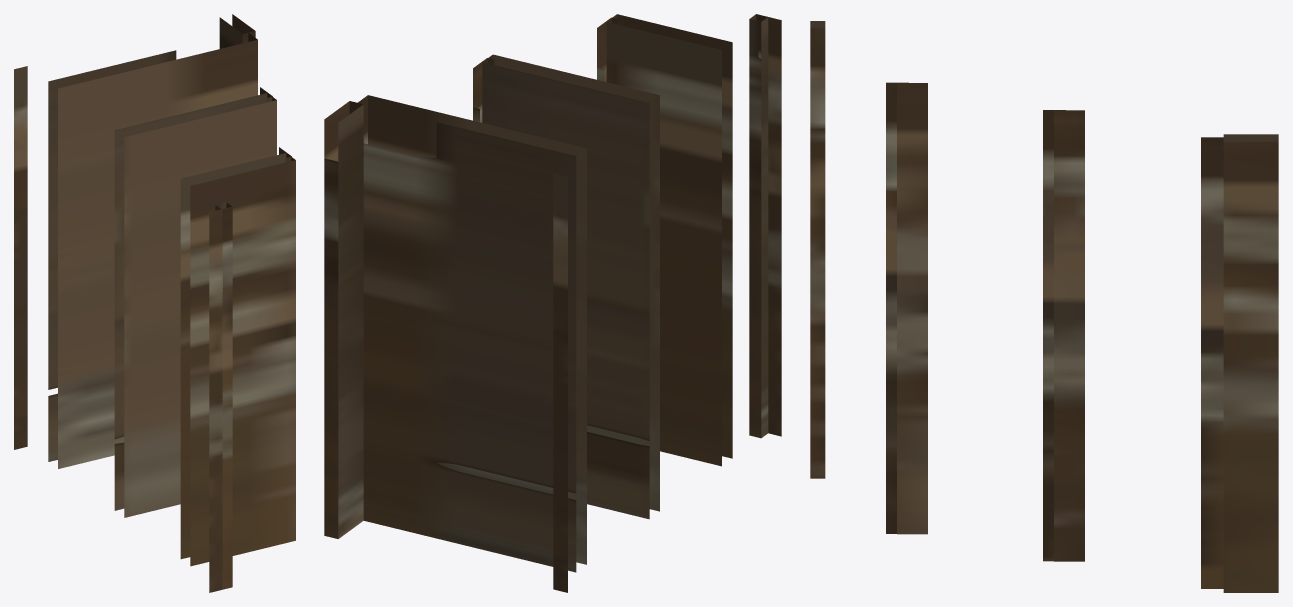
File: section-6.obj
3 renders of one model, left to right at view 1: azimuth 30°, elevation 25°; view 2: azimuth 150°, elevation 25°; view 3: azimuth 270°, elevation 25°, orthographic. The views are drawn at different scales.
Size of the model in its own units: 0.606 by 1 by 0.94.
